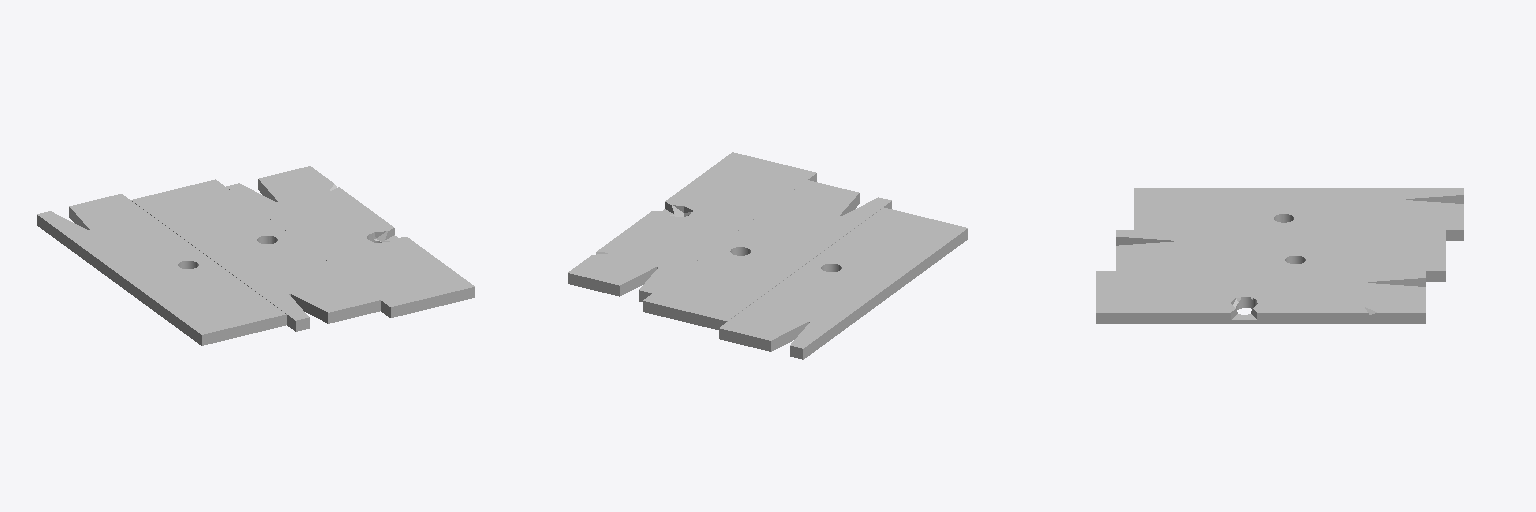
The model's file is platform.obj.
3 views of the same model, side by side, from view 1: azimuth 30°, elevation 25°; view 2: azimuth 150°, elevation 25°; view 3: azimuth 270°, elevation 25° (orthographic).
Parts seen in each view (by area): view 1: Cube.018_Cube.028; view 2: Cube.018_Cube.028; view 3: Cube.018_Cube.028.
Part boxes in pixels (bbox=[...]): Cube.018_Cube.028: bbox=[37, 166, 474, 345]; Cube.018_Cube.028: bbox=[568, 152, 967, 359]; Cube.018_Cube.028: bbox=[1096, 188, 1463, 323].
Bounding box in the file's own units: 2.7 × 0.1124 × 3.37.